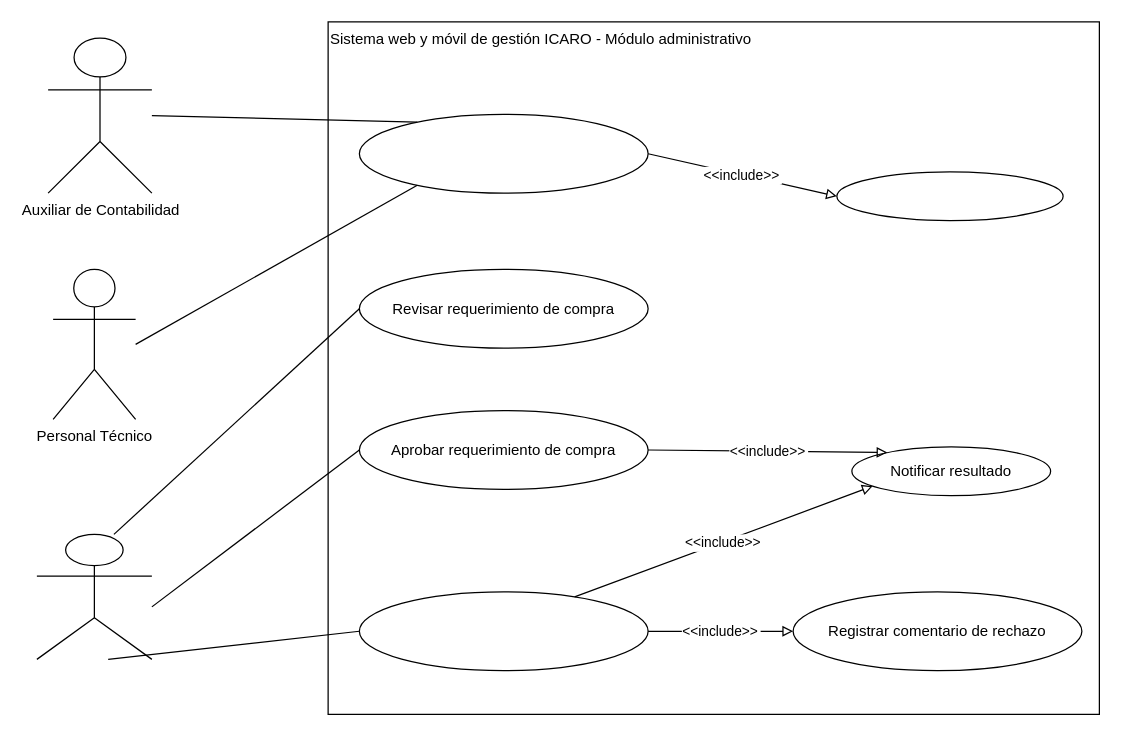
This 1121x736 diagram has some shape labels left out. Each missing label, with the centre of its shape:
"Crear requerimiento de compra" goes at point (503, 153).
"Presidente / Gerente" goes at point (94, 596).
"Rechazar requerimiento de compra" goes at point (503, 631).
"Validar requerimiento" goes at point (949, 196).
